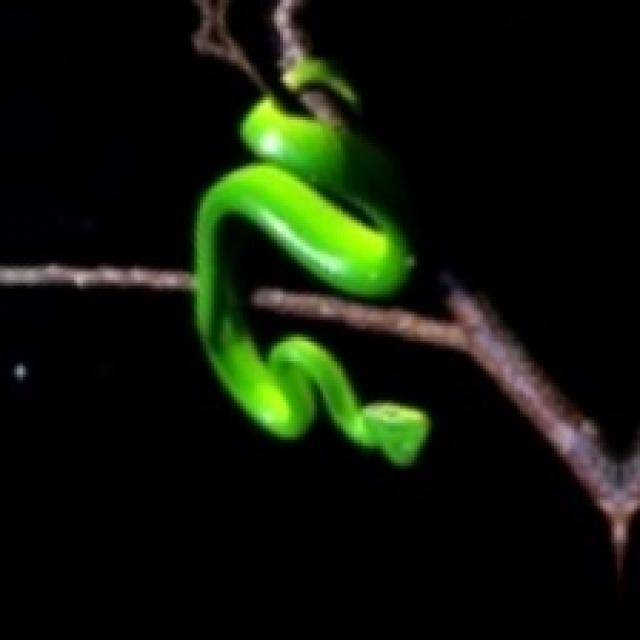north ph temple pitviper: (194, 0, 429, 463)
